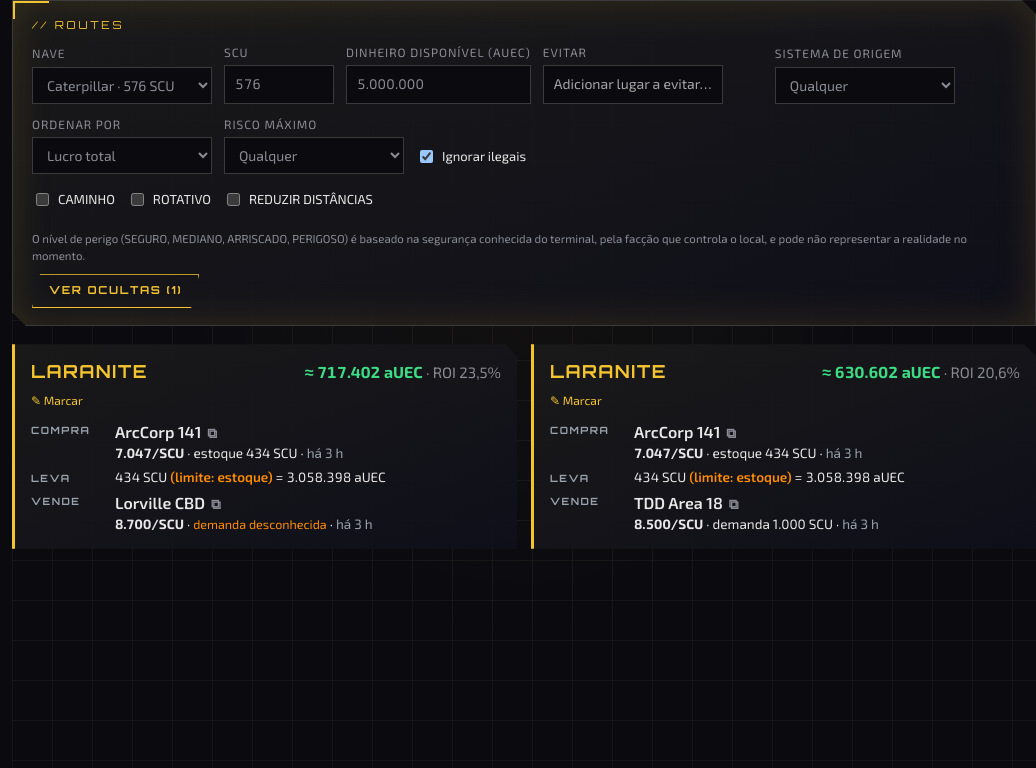
Test: marcações nas rotas › oculta que não calcula mais aparece na lista simples e volta com "Mostrar de novo"
What coordinates should you click on to do the following:
click the button "Ver ocultas (1)"
I would click on:
 (116, 291)
Its box is [32, 274, 199, 308].
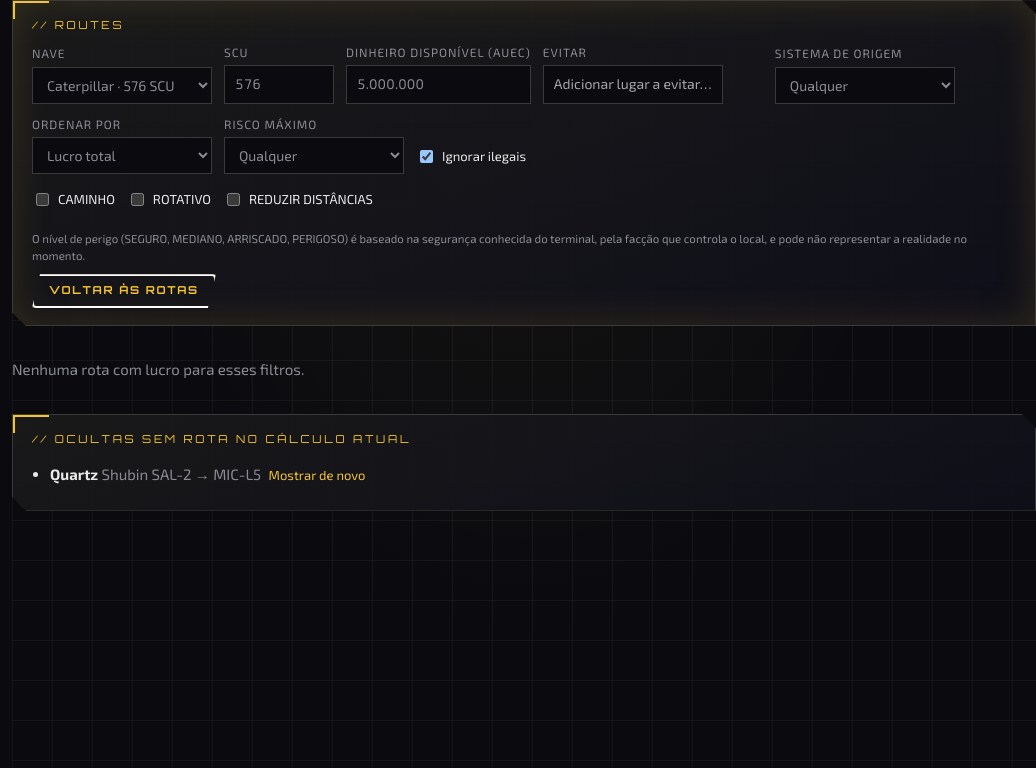
Now the list item "Quartz Shubin SAL-2 → MIC-L5 Mostrar de novo" is shown, box [50, 458, 370, 493]
What coordinates should you click on to do the following:
click the button "Mostrar de novo"
I would click on:
 (317, 475)
Its box is [264, 458, 369, 493].
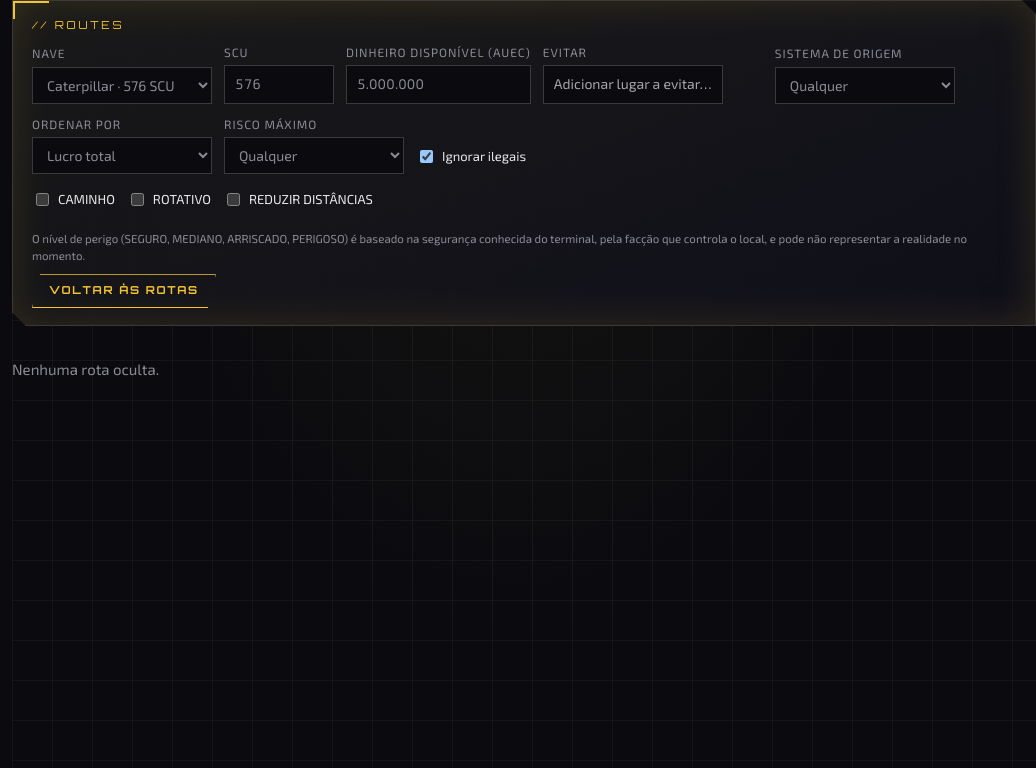
Now the text "Quartz" is gone
